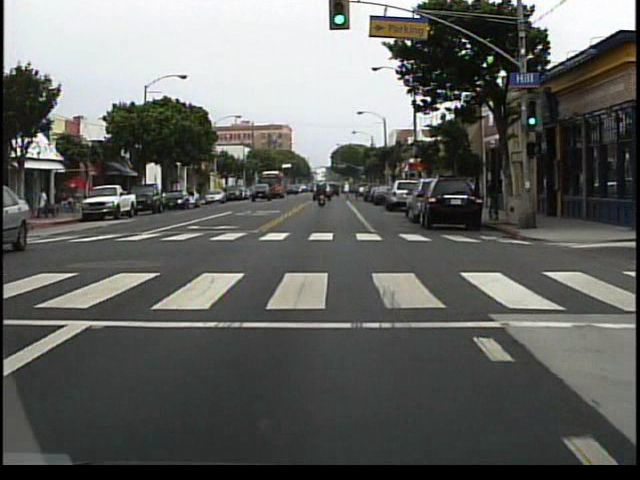person: (38, 183, 53, 220), (315, 185, 328, 211)
